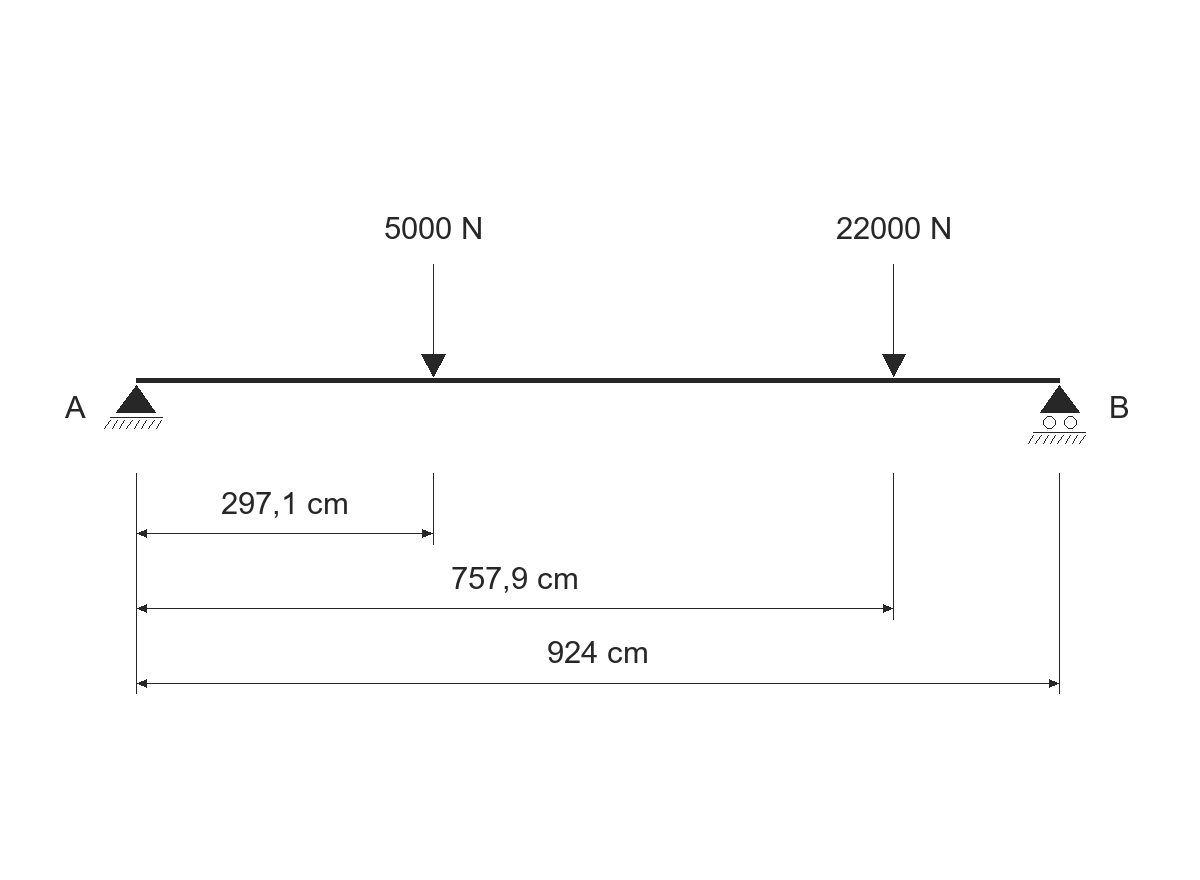pin_support: (104, 385, 163, 429)
point_load: (421, 264, 446, 377), (882, 264, 906, 377)
roller_support: (1028, 385, 1086, 444)
